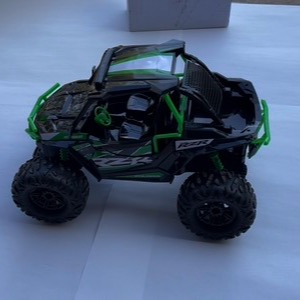polaris: (11, 40, 273, 244)
